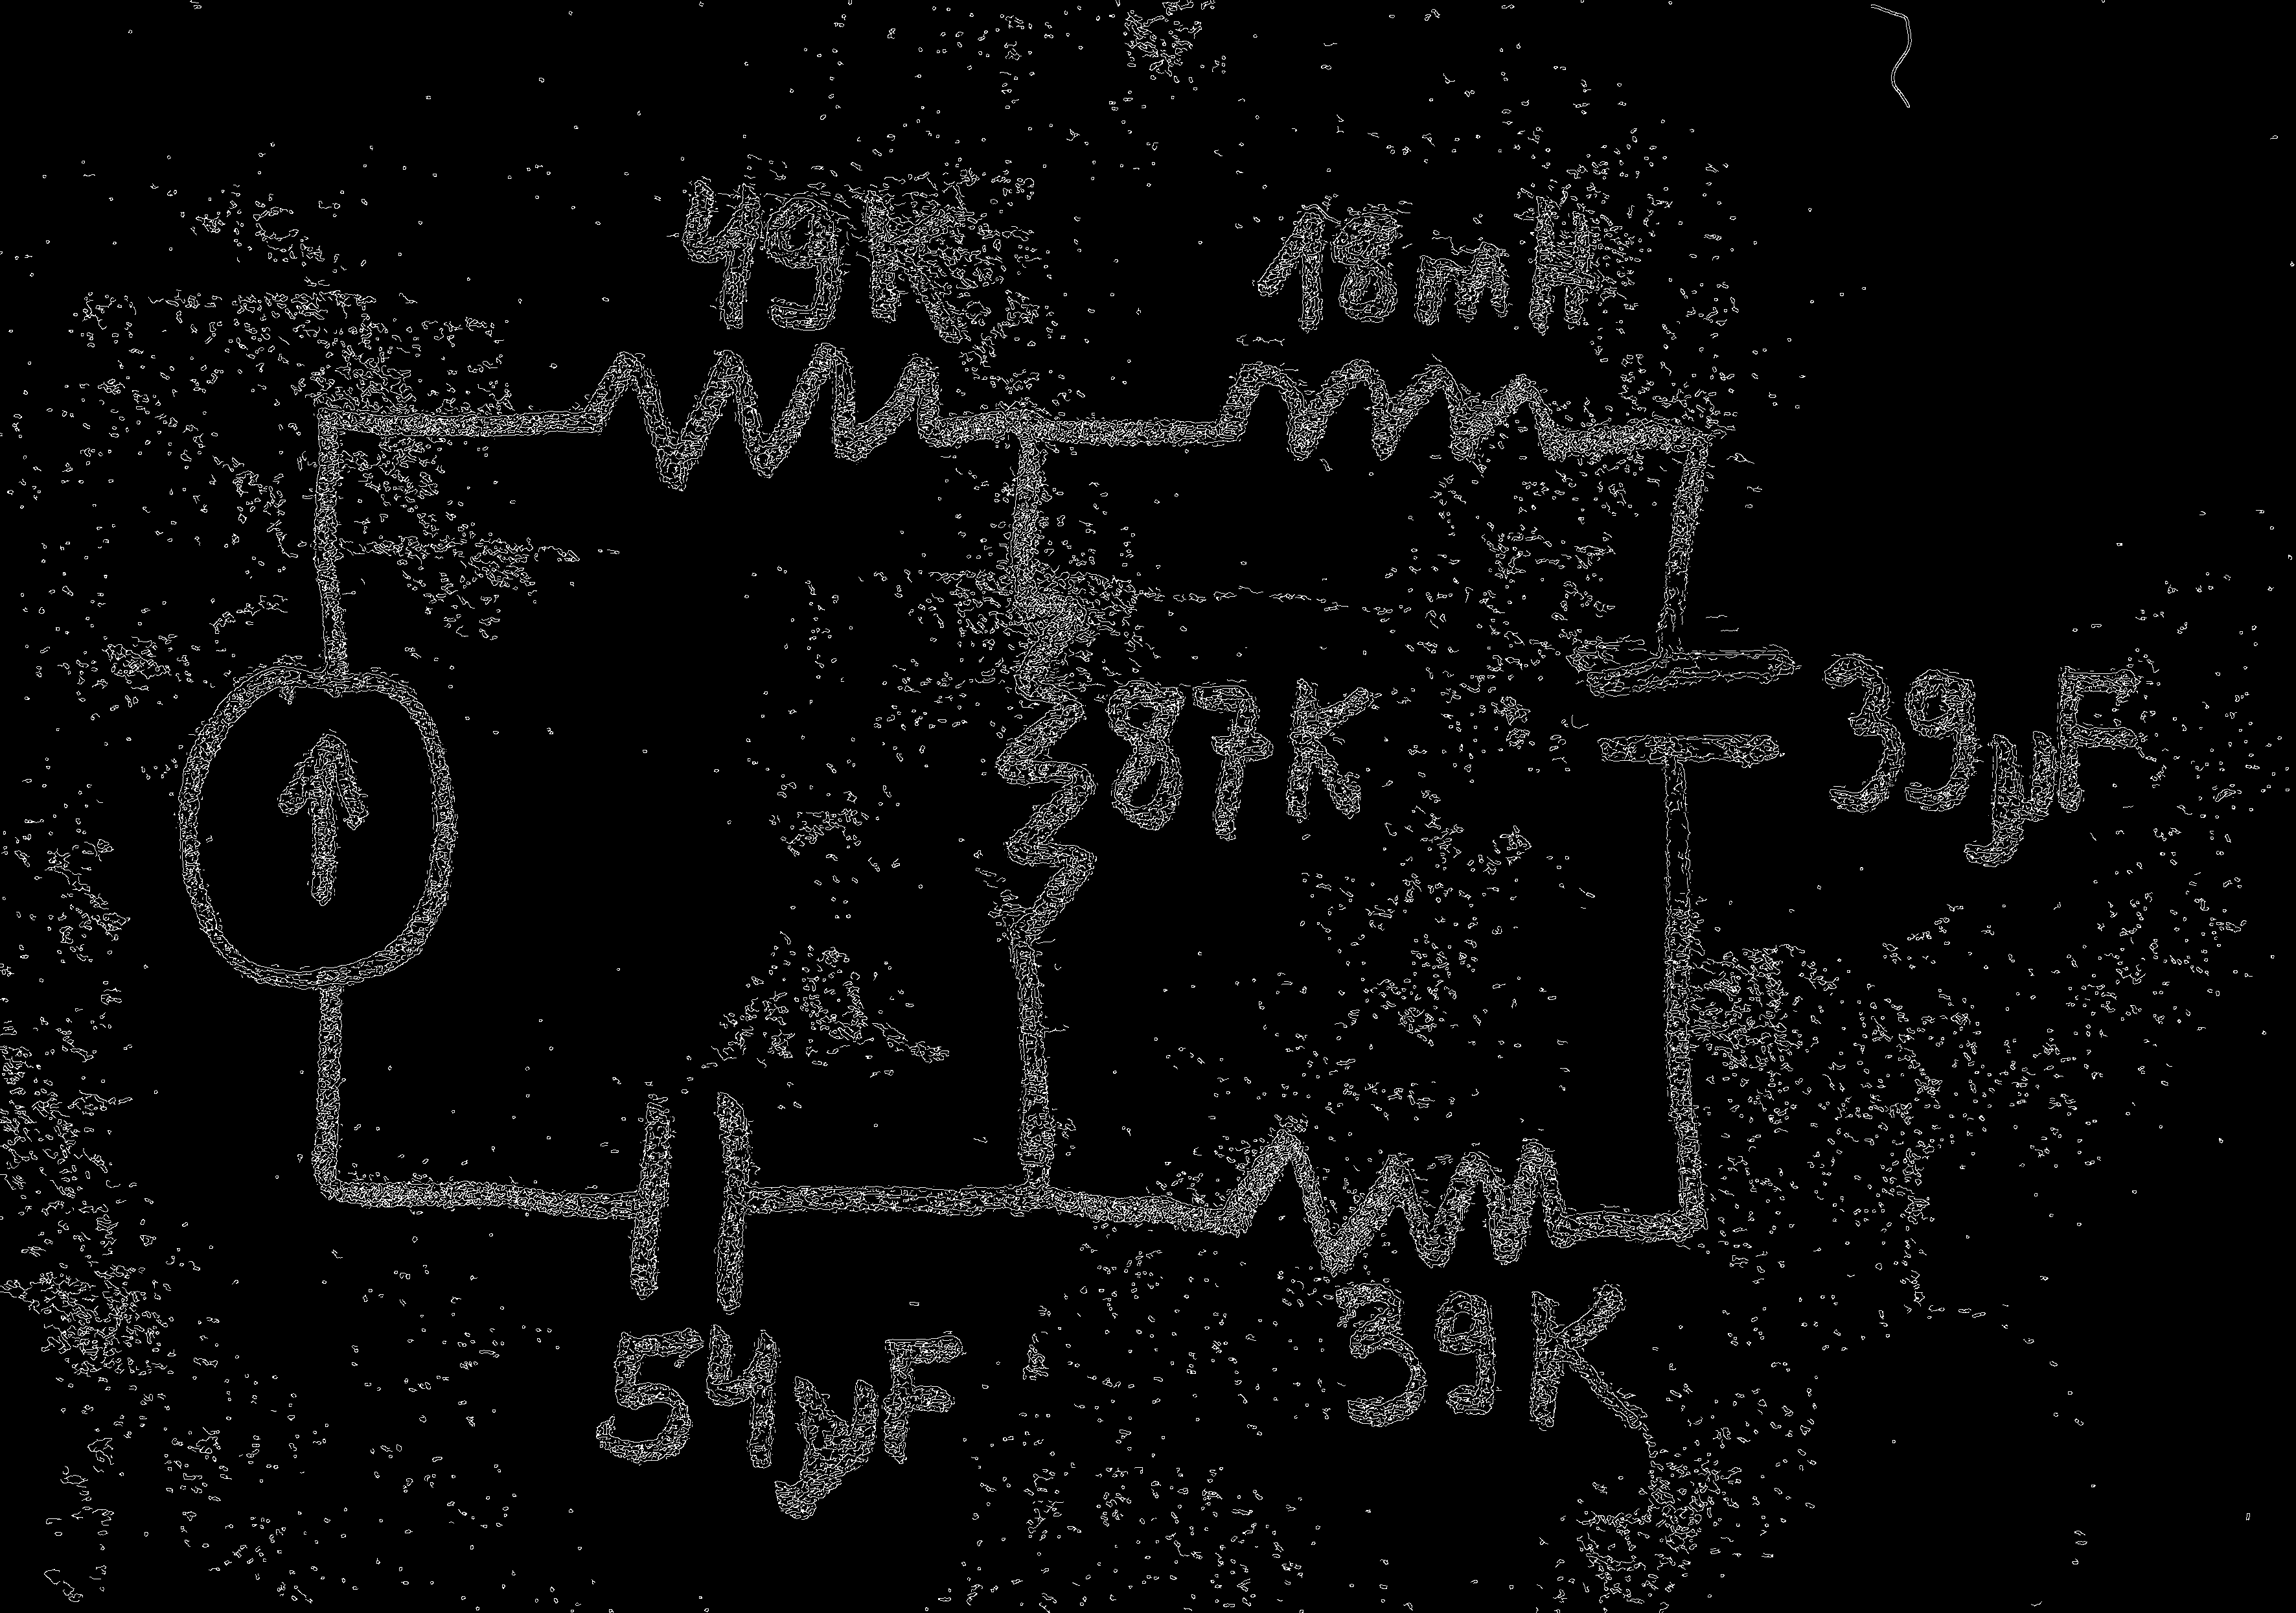1: (1245, 206, 1331, 332)
3: (1327, 1276, 1430, 1440), (1818, 644, 1909, 824)
4: (678, 173, 761, 336), (704, 1322, 784, 1476)
5: (598, 1317, 705, 1466)
7: (1186, 681, 1278, 841)
8: (1096, 674, 1191, 832), (1329, 210, 1405, 330)
9: (1897, 662, 1984, 821), (759, 192, 844, 337), (1427, 1290, 1508, 1423)
F: (2051, 660, 2140, 822), (878, 1335, 963, 1472)
H: (1521, 197, 1593, 340)
k: (859, 184, 984, 350), (1520, 1282, 1645, 1440), (1285, 674, 1375, 832)
m: (1413, 245, 1511, 331)
u: (781, 1375, 878, 1522), (1982, 733, 2058, 871)
